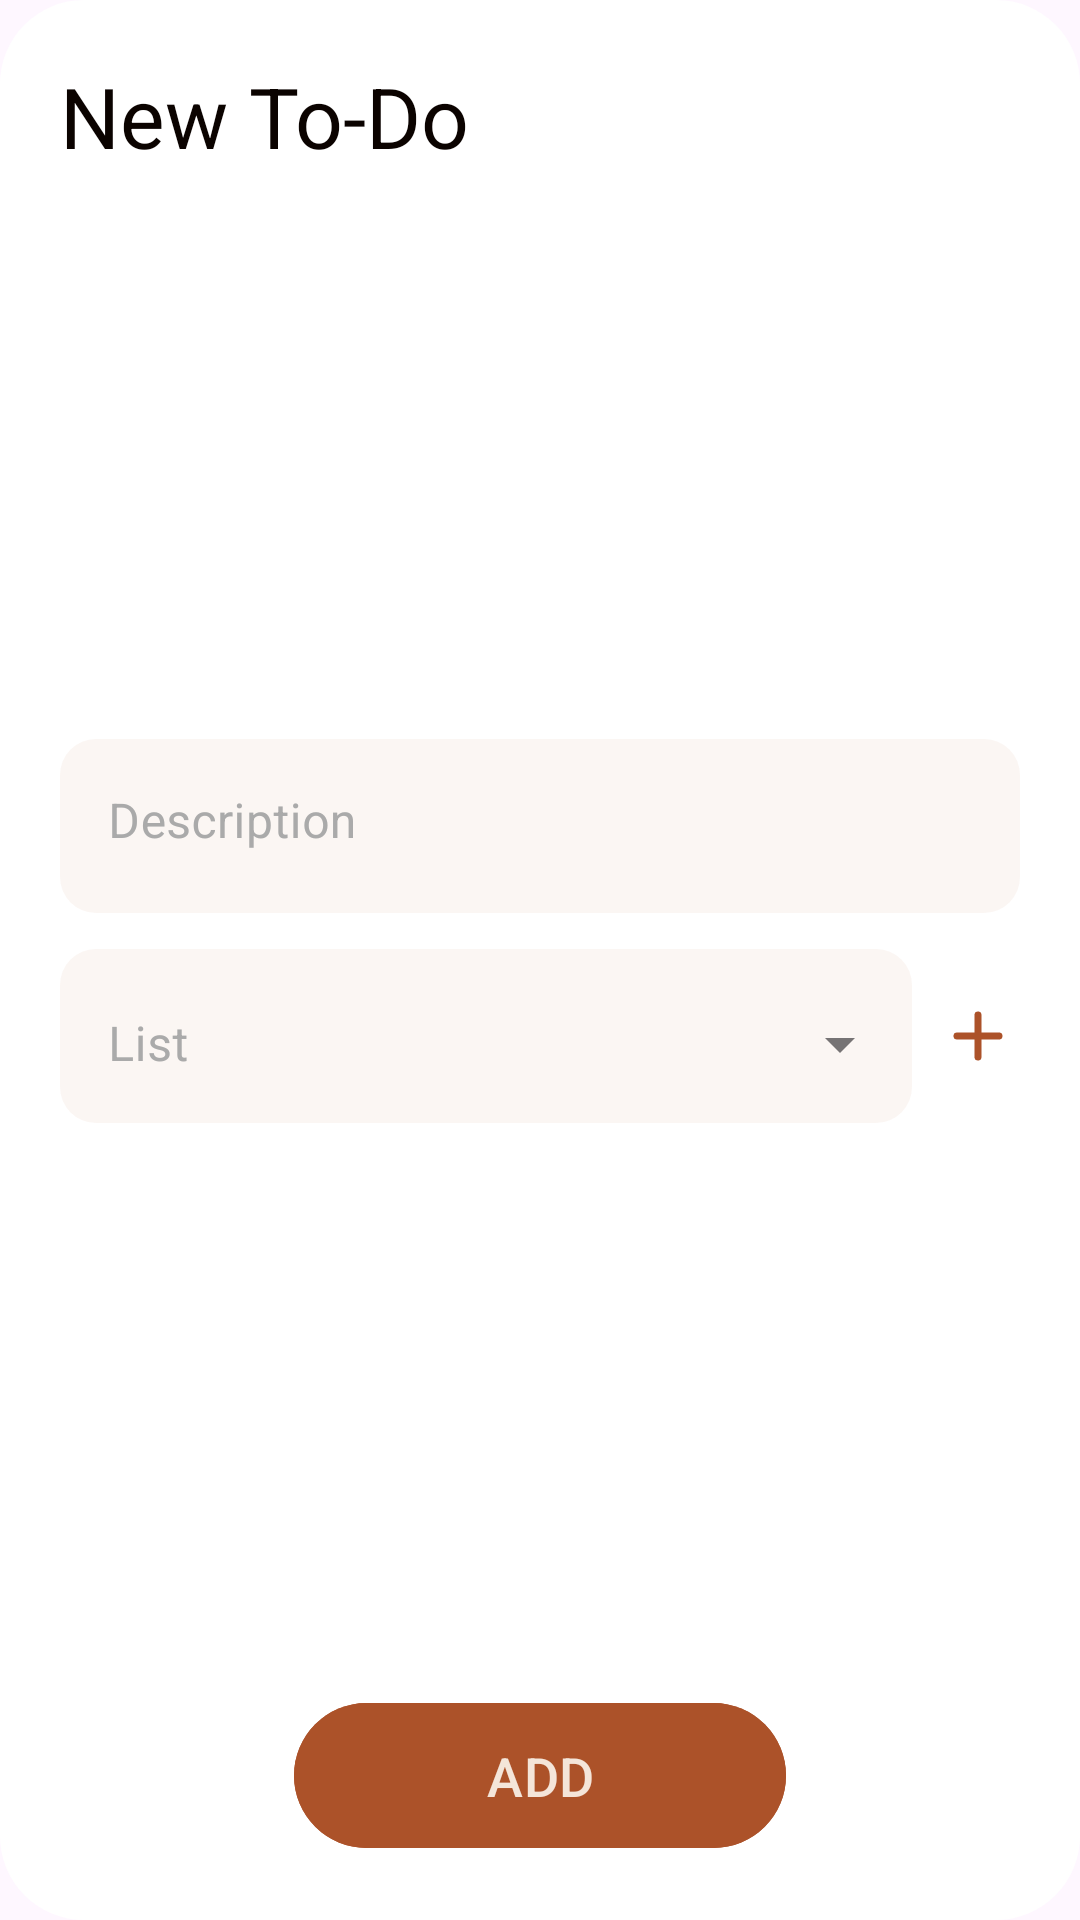

Locate icon controls on the screen. Image size 1080px x 1920px, boxes as (left=x1, top=y1, right=x2, bottom=y2).
Plus: (left=953, top=1011, right=1003, bottom=1061)
